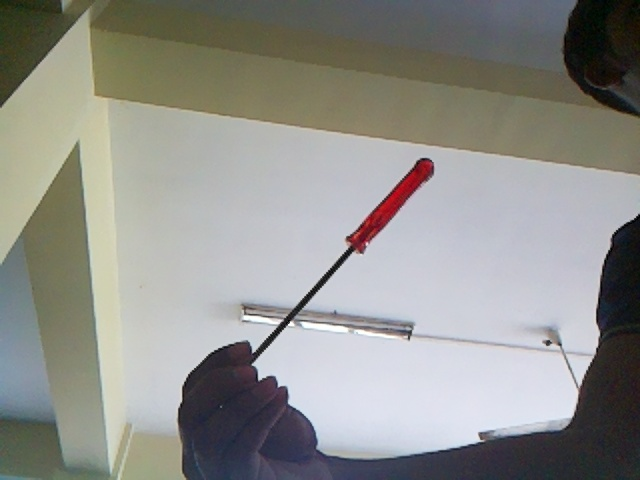redskrew: (245, 150, 436, 362)
